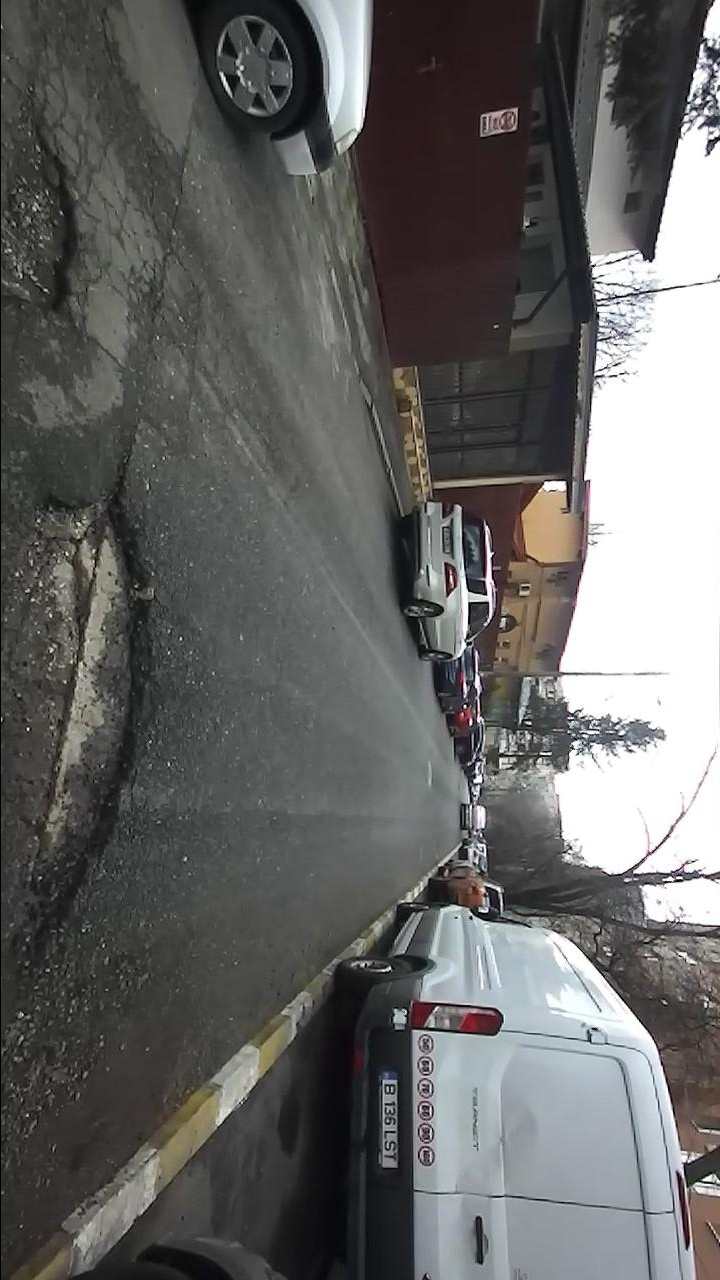pothole: (1, 455, 162, 1016), (1, 78, 85, 311)
